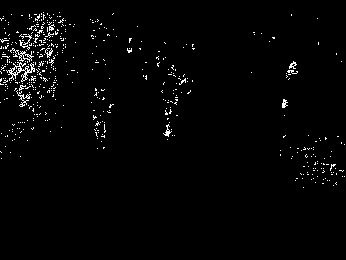person: (90, 86, 113, 150), (160, 81, 178, 138)
